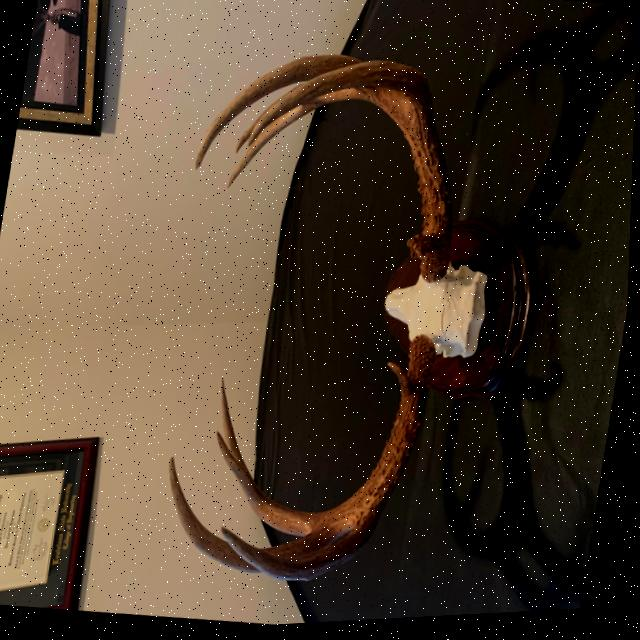E1: (220, 432, 232, 458)
L-F: (223, 337, 439, 539)
L-G1: (390, 364, 416, 399)
L-G2: (225, 513, 385, 584)
R-F: (228, 89, 454, 287)
R-G1: (408, 237, 433, 265)
R-G2: (247, 63, 436, 149)
